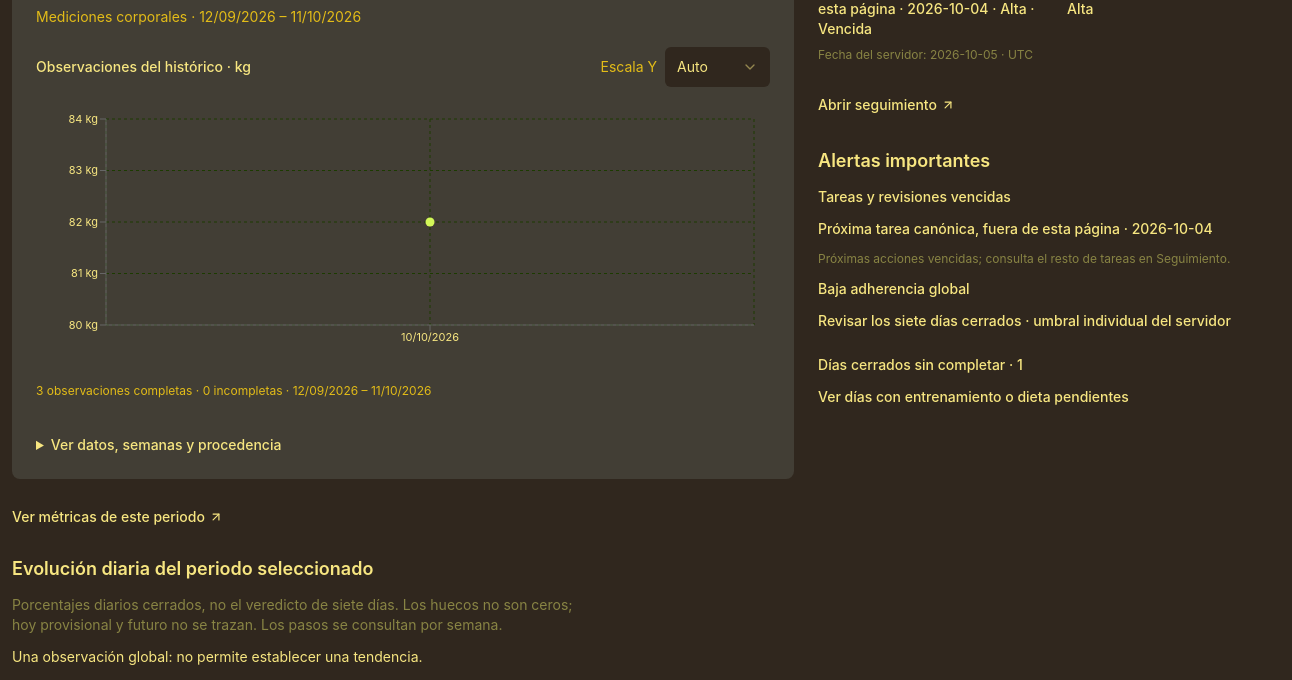
Dashboard: presentación canónica › agrupa alertas cerradas y respeta solo el veredicto de baja adherencia del servidor
The image size is (1292, 680).
(page scrolled)
Expected: the heading "Baja adherencia global" is shown, [818, 280, 970, 297]
Click the heading "Ver días con entrenamiento o dieta pendientes": point(973, 396) [818, 388, 1129, 405]
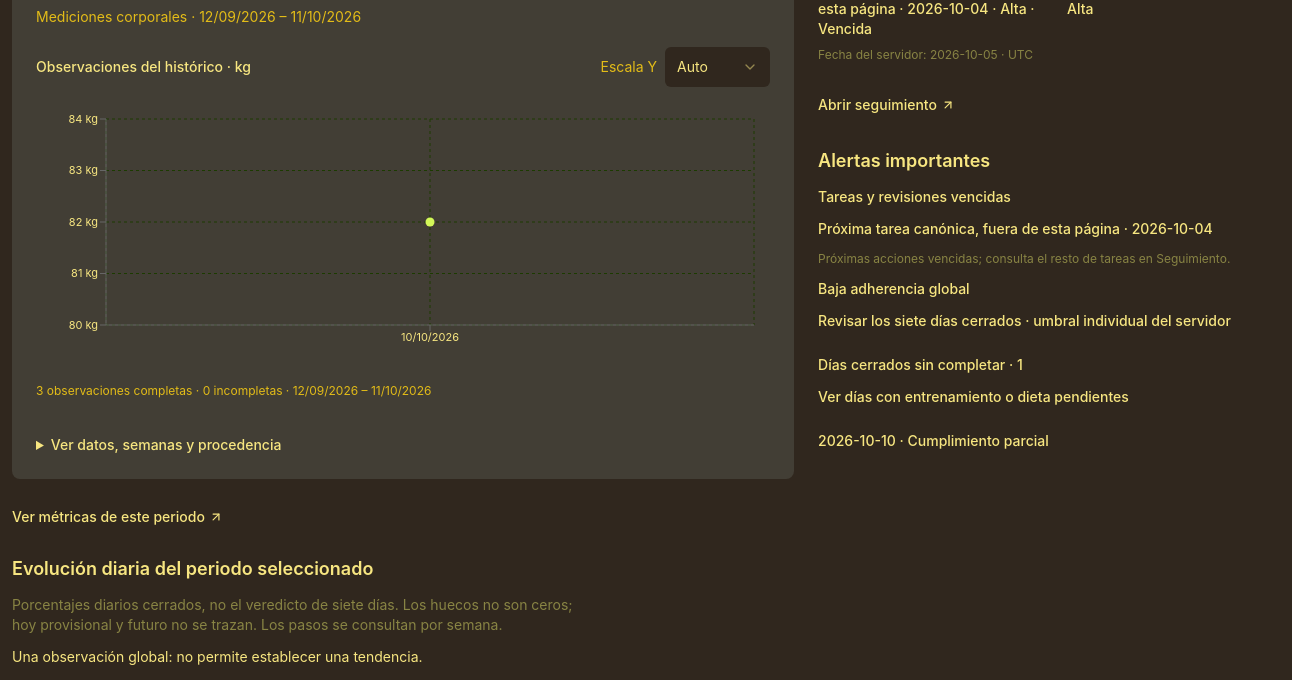
Expected: the link "Próxima tarea canónica, fuera de esta página · 2026-10-04" is shown, [818, 220, 1213, 237]
Now the link "2026-10-10 · Cumplimiento parcial" is shown, box [818, 432, 1049, 449]
